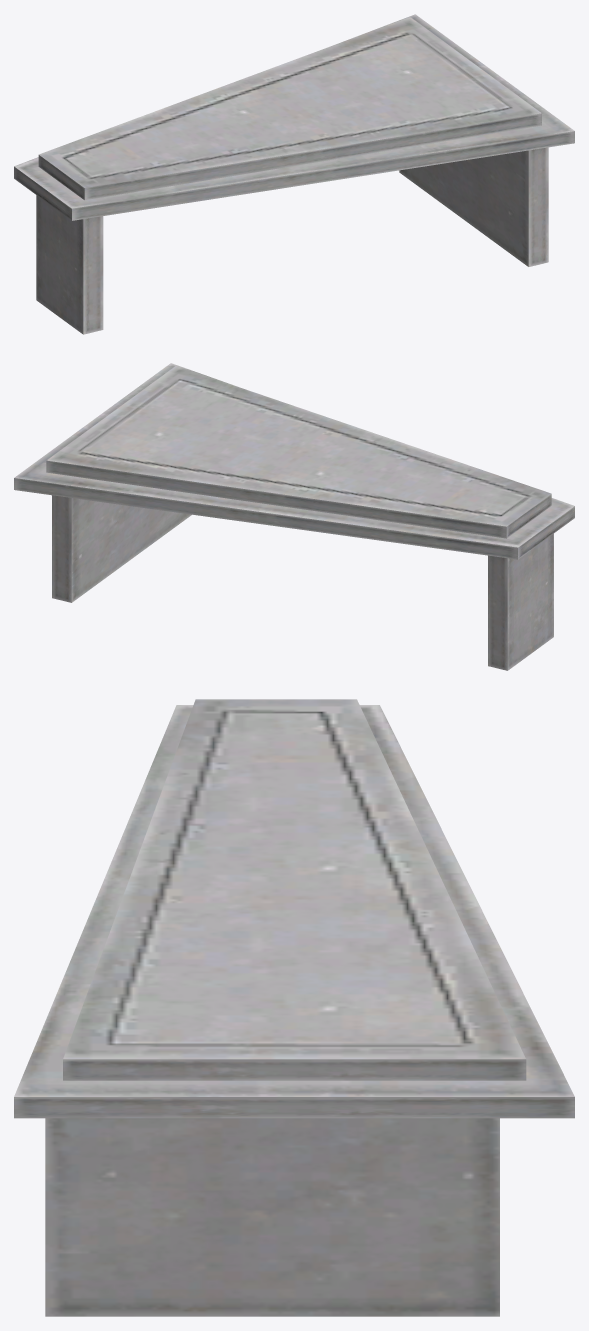
Rendered from frn_all_plan_coffee_table_s01.fbx.
3 renders of one model, top to bottom at view 1: azimuth 30°, elevation 25°; view 2: azimuth 150°, elevation 25°; view 3: azimuth 270°, elevation 25°, orthographic. The views are drawn at different scales.
Parts seen in each view (by area): view 1: mesh_node; view 2: mesh_node; view 3: mesh_node.
Boxes of the visible parts, <box> form: mesh_node: <box>14,14,574,334</box>; mesh_node: <box>14,363,574,670</box>; mesh_node: <box>14,699,574,1316</box>.
Size of the model in its own units: 1.31 by 0.3992 by 0.7924.
Materials: 1 (1 with a texture image).
